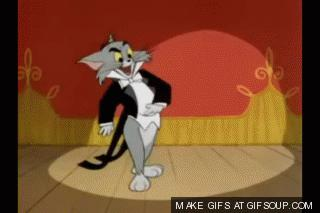tom: (73, 31, 176, 192)
